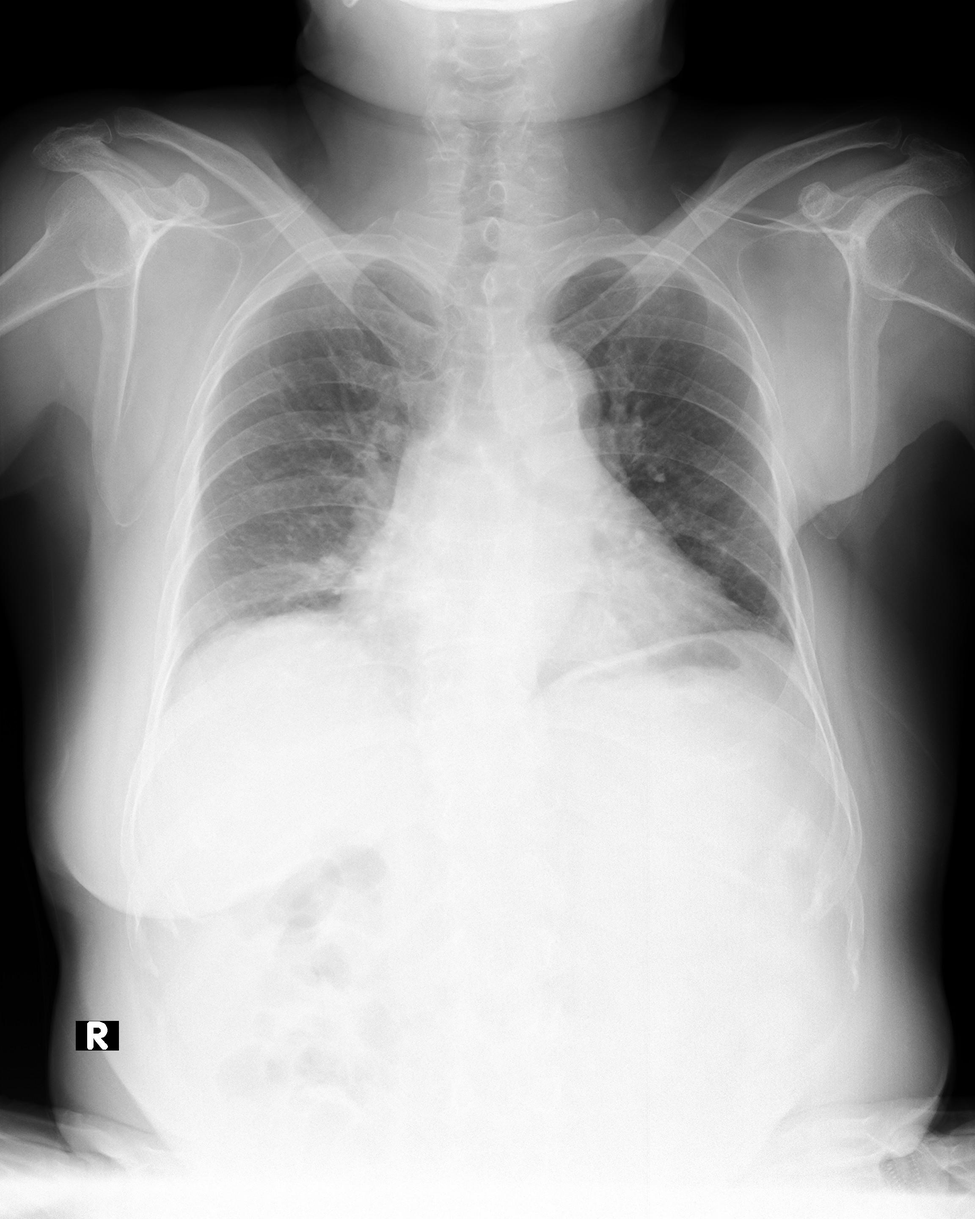Aortic enlargement: (489, 341, 603, 454)
Cardiomegaly: (339, 557, 733, 665)
Pleural thickening: (388, 258, 436, 297), (547, 253, 585, 301)
